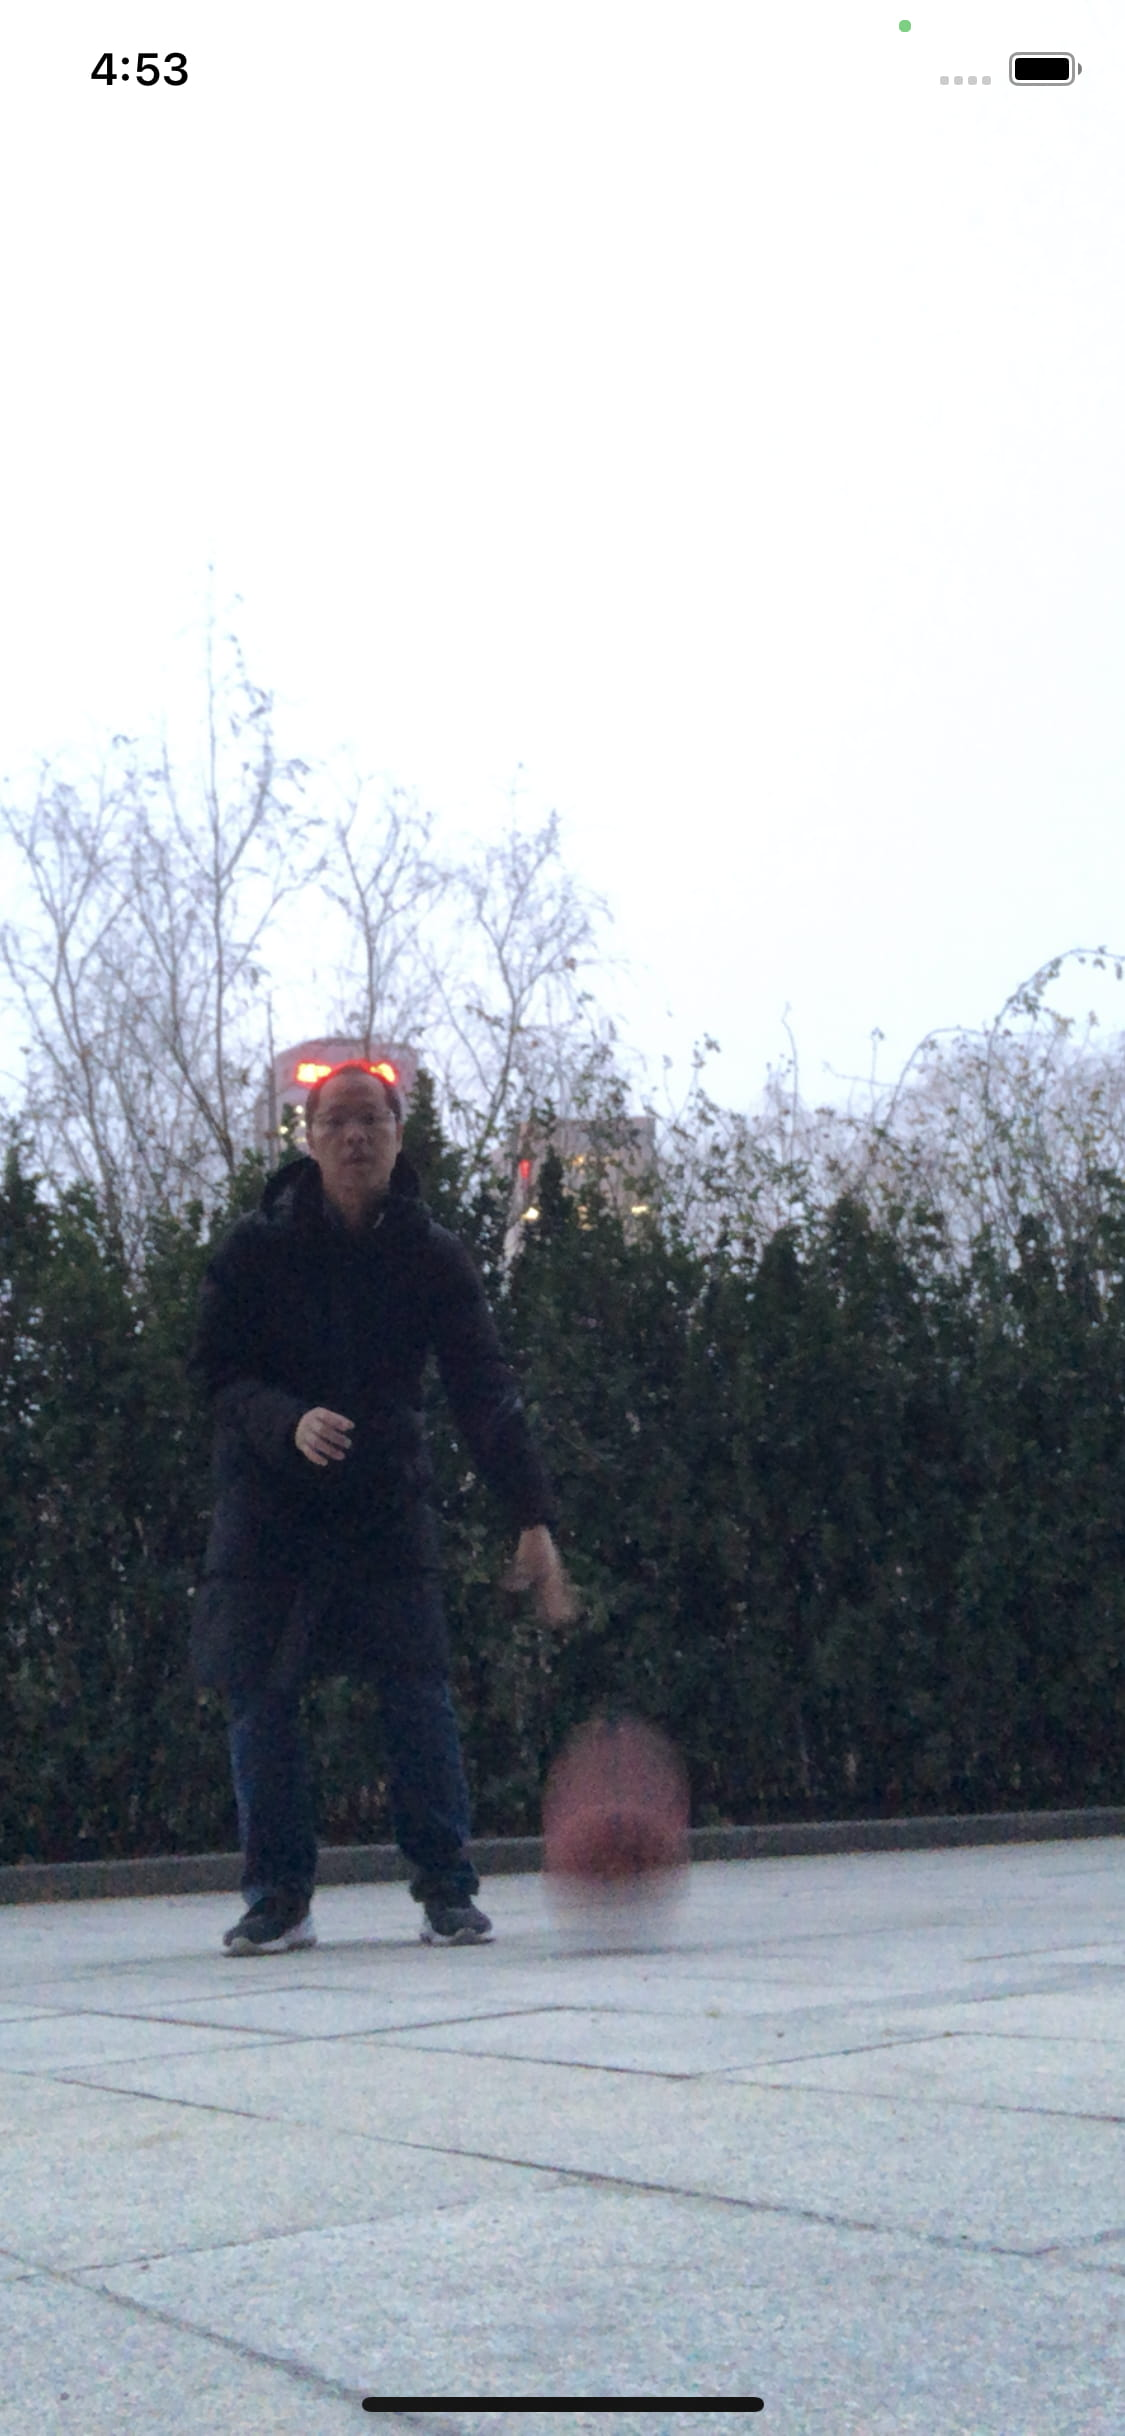ball: (545, 1770, 701, 1947)
